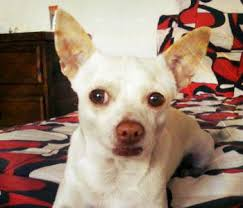chihuahua: (37, 2, 225, 208)
